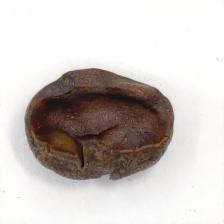NG: (24, 67, 174, 146), (42, 136, 146, 180)
